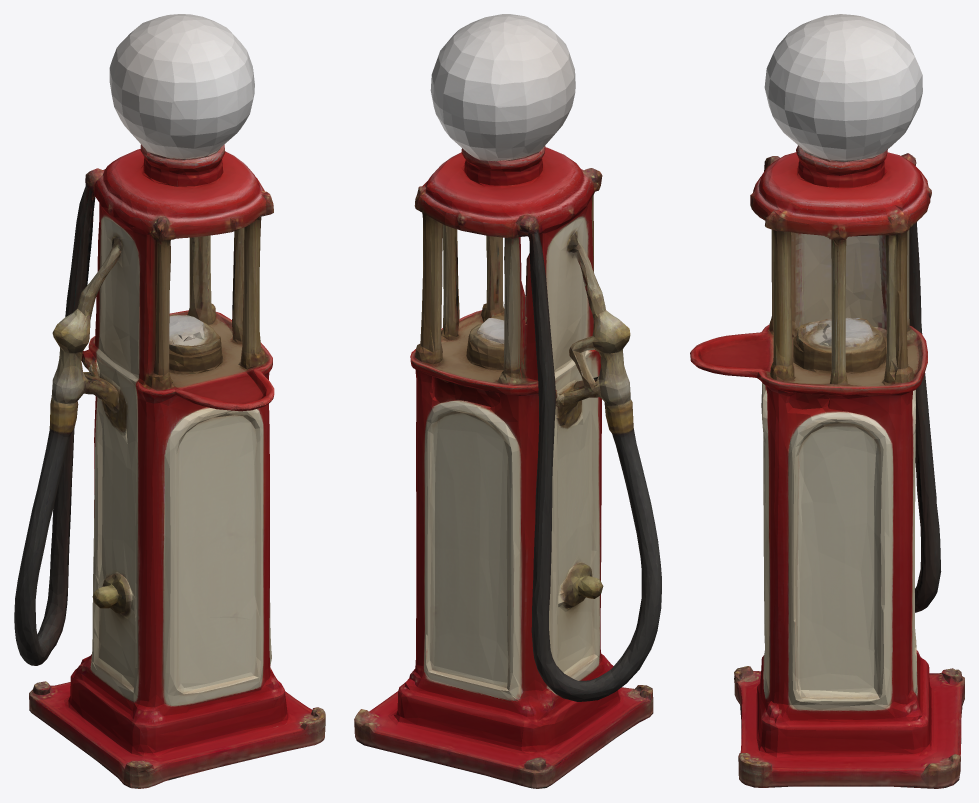
The model's file is m_pump.glb.
The picture shows the model from 3 angles, left to right: view 1: azimuth 30°, elevation 25°; view 2: azimuth 150°, elevation 25°; view 3: azimuth 270°, elevation 25°; orthographic projection. The views are drawn at different scales.
Visible parts, largest first — view 1: geometry_0; view 2: geometry_0; view 3: geometry_0.
Boxes of the visible parts, left/top/right/bottom form: geometry_0: left=14, top=14, right=325, bottom=788; geometry_0: left=354, top=14, right=661, bottom=788; geometry_0: left=690, top=14, right=964, bottom=788.
Size of the model in its own units: 0.3895 by 1 by 0.3474.
Materials: 1 (1 with a texture image).
